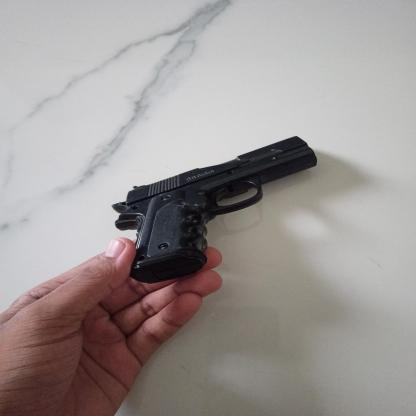handgun: (110, 136, 318, 282)
